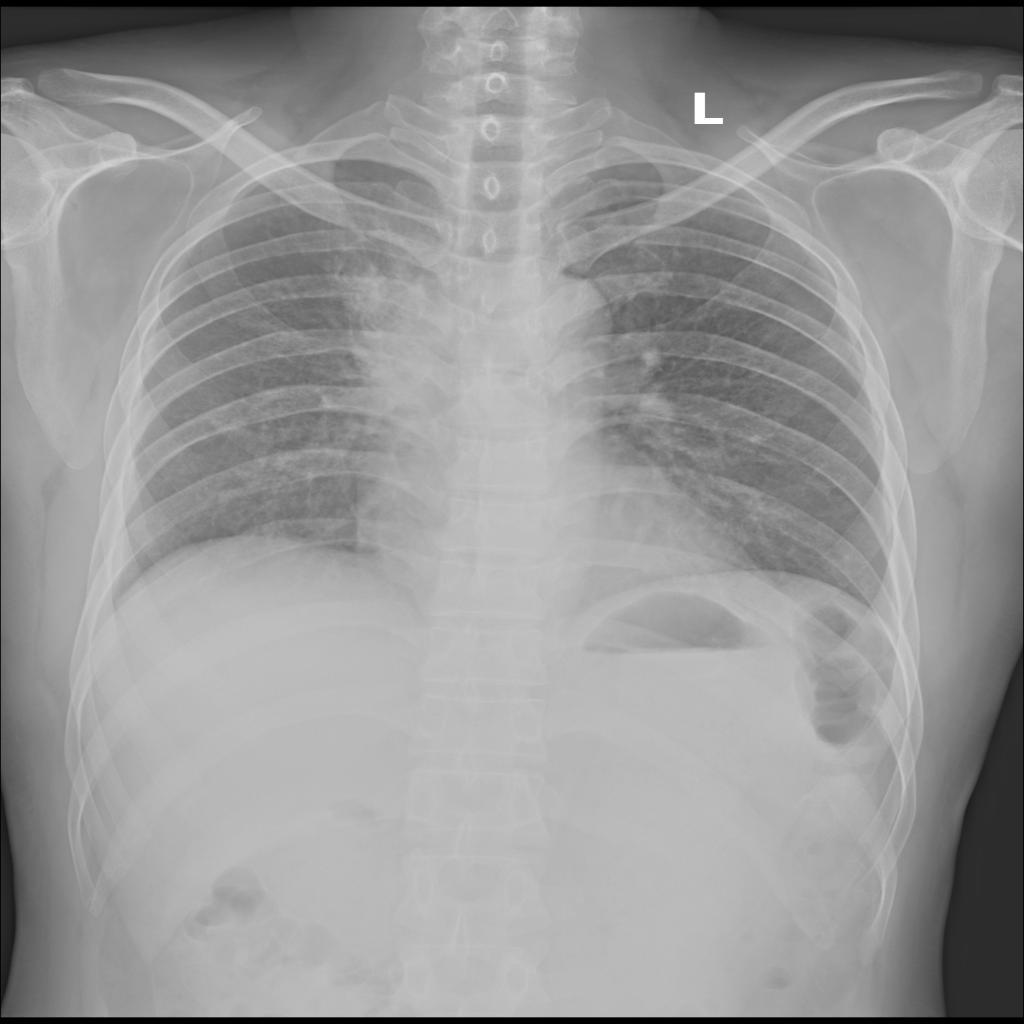Nodule: (334, 265, 456, 419)
